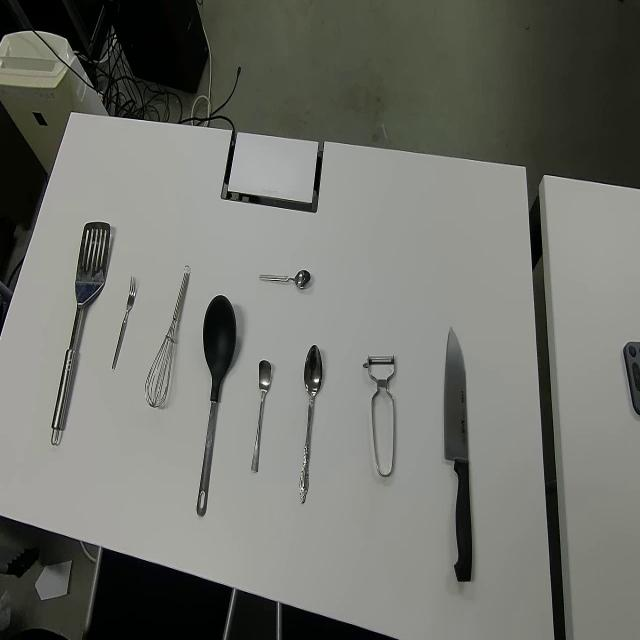Desert-Spoon: (299, 342, 323, 504)
Dinner-Fork: (110, 278, 137, 377)
Kitchen-Knife: (443, 323, 473, 585)
Peeler: (362, 353, 396, 477)
Serving-Spoon: (50, 220, 111, 448), (196, 294, 237, 518)
Tea-Spoon: (250, 360, 272, 475), (258, 268, 312, 292)
Whisk: (144, 263, 191, 410)
